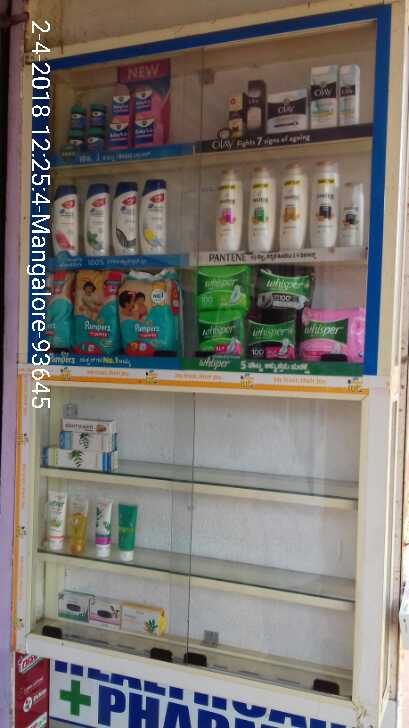vicks: (62, 89, 111, 152), (111, 89, 162, 147)
